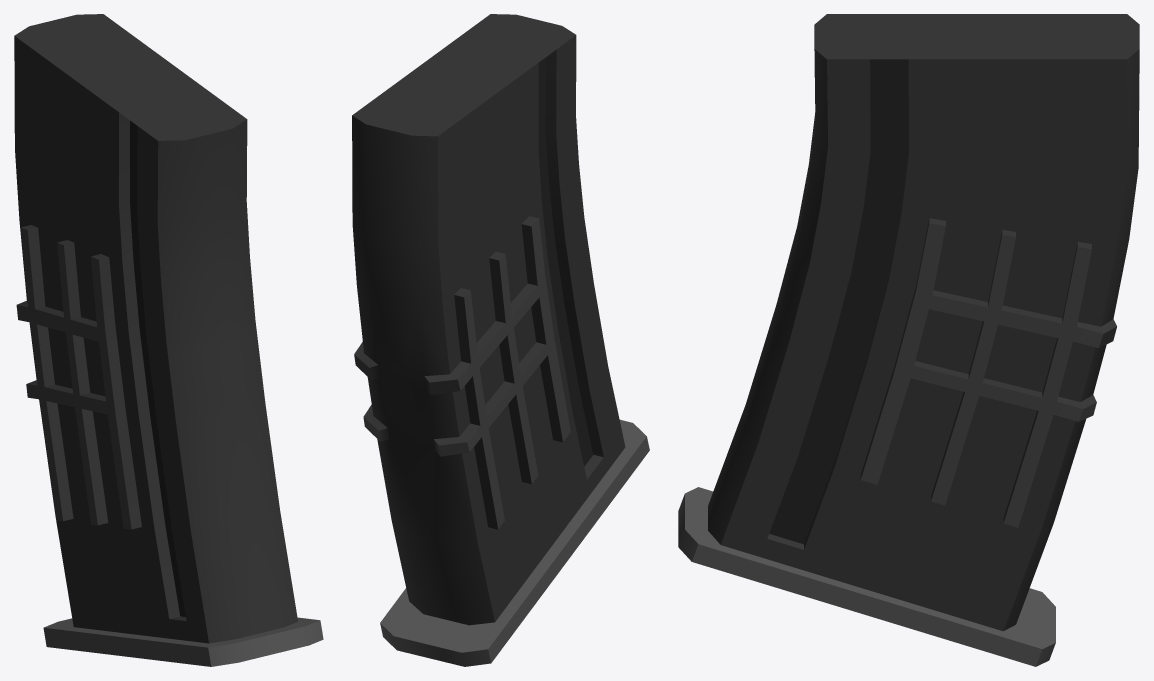
Rendered from mag_2.fbx.
3 views of the same model, side by side, from view 1: azimuth 30°, elevation 25°; view 2: azimuth 150°, elevation 25°; view 3: azimuth 270°, elevation 25° (orthographic). The views are drawn at different scales.
Visible parts, largest first — view 1: mag_2; view 2: mag_2; view 3: mag_2.
Boxes of the visible parts, box(x1,y1,x2,y2) form: mag_2: box(14, 14, 323, 666); mag_2: box(352, 14, 649, 666); mag_2: box(678, 14, 1139, 666).
Size of the model in its own units: 132 by 654 by 452.
